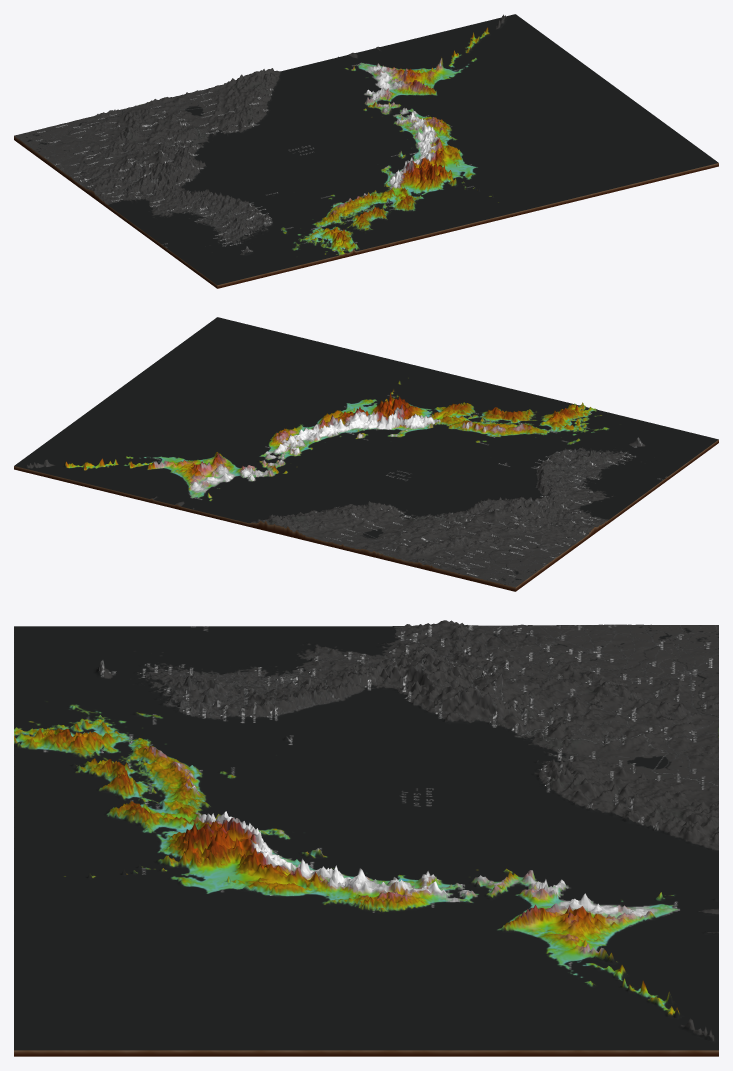
Rendered from japan.glb.
The picture shows the model from 3 angles, top to bottom: view 1: azimuth 30°, elevation 25°; view 2: azimuth 150°, elevation 25°; view 3: azimuth 270°, elevation 25°; orthographic projection. The views are drawn at different scales.
Visible parts, largest first — view 1: japan; view 2: japan; view 3: japan.
Part boxes in pixels (bbox=[...]): japan: bbox=[14, 14, 718, 288]; japan: bbox=[14, 317, 718, 591]; japan: bbox=[14, 620, 718, 1056].
Bounding box in the file's own units: 3.83 × 0.1506 × 2.69.
3 materials, 3 textured.
